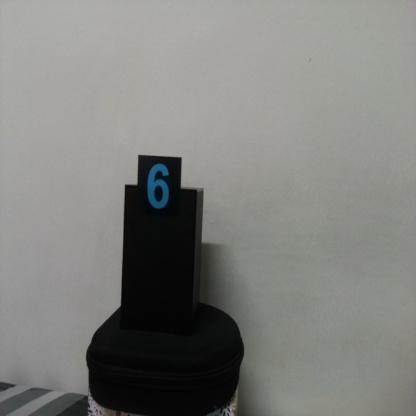id_6: (137, 155, 181, 232)
